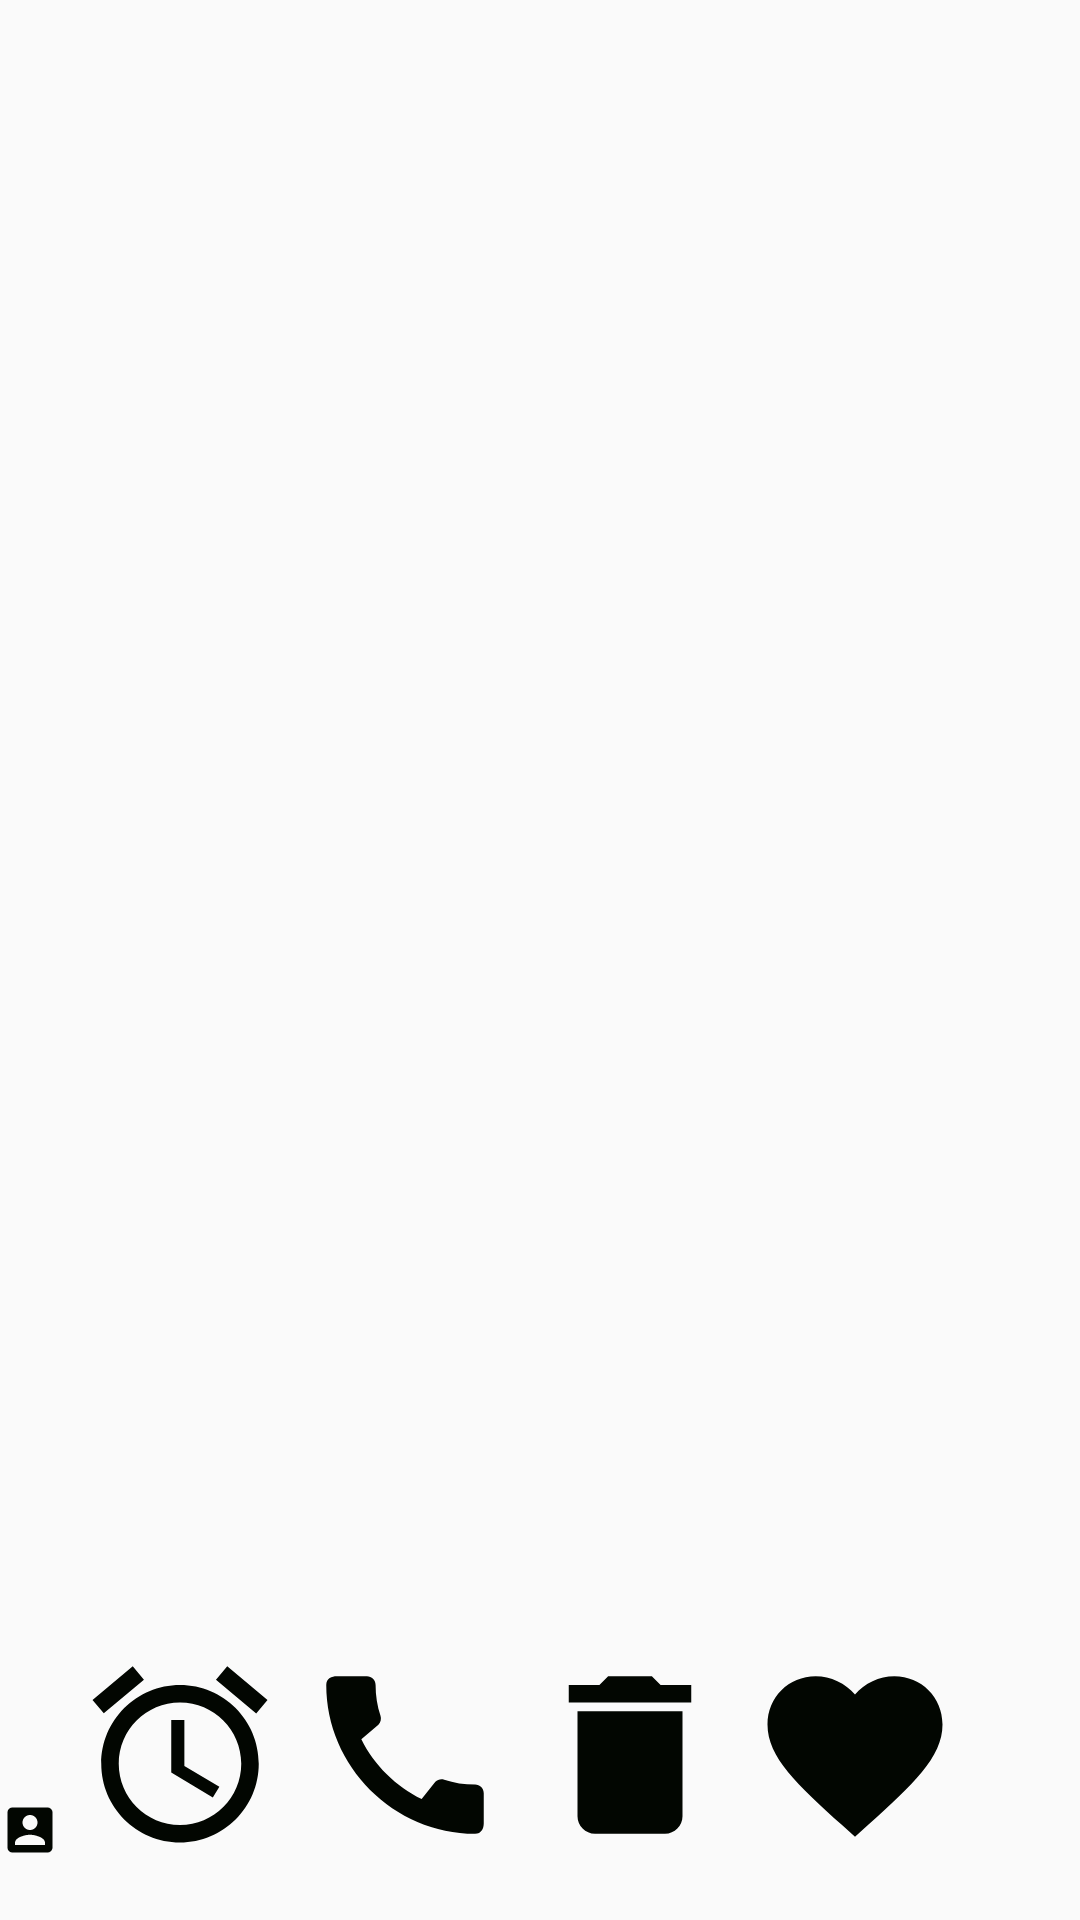

Point at icon controls on the screen. Image size 1080 × 1920, points as point (x, y).
account: point (30, 1830)
alarm: point (180, 1754)
cal: point (405, 1755)
darkheart: point (855, 1756)
delete: point (630, 1755)
